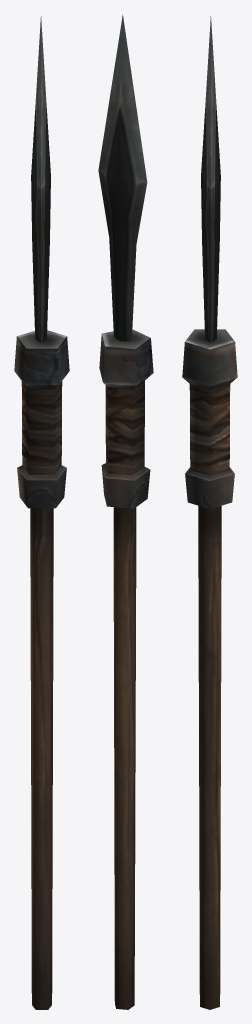
The model's file is Z_wuqi001.fbx.
3 renders of one model, left to right at view 1: azimuth 90°, elevation 25°; view 2: azimuth 150°, elevation 25°; view 3: azimuth 270°, elevation 25°, orthographic.
Parts seen in each view (by area): view 1: Z_wuqi001; view 2: Z_wuqi001; view 3: Z_wuqi001.
Part boxes in pixels (left/top/right/bottom): Z_wuqi001: left=14, top=16, right=69, bottom=1009; Z_wuqi001: left=98, top=14, right=153, bottom=1009; Z_wuqi001: left=182, top=16, right=237, bottom=1009.
Bounding box in the file's own units: 13.52 × 262 × 13.26.
